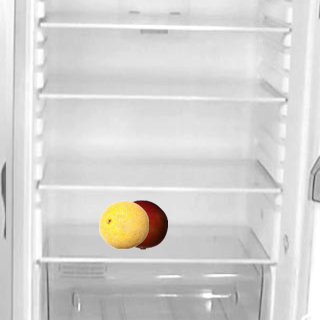Apple Braeburn: (117, 199, 167, 249)
Cantaloupe 1: (98, 199, 148, 249)
